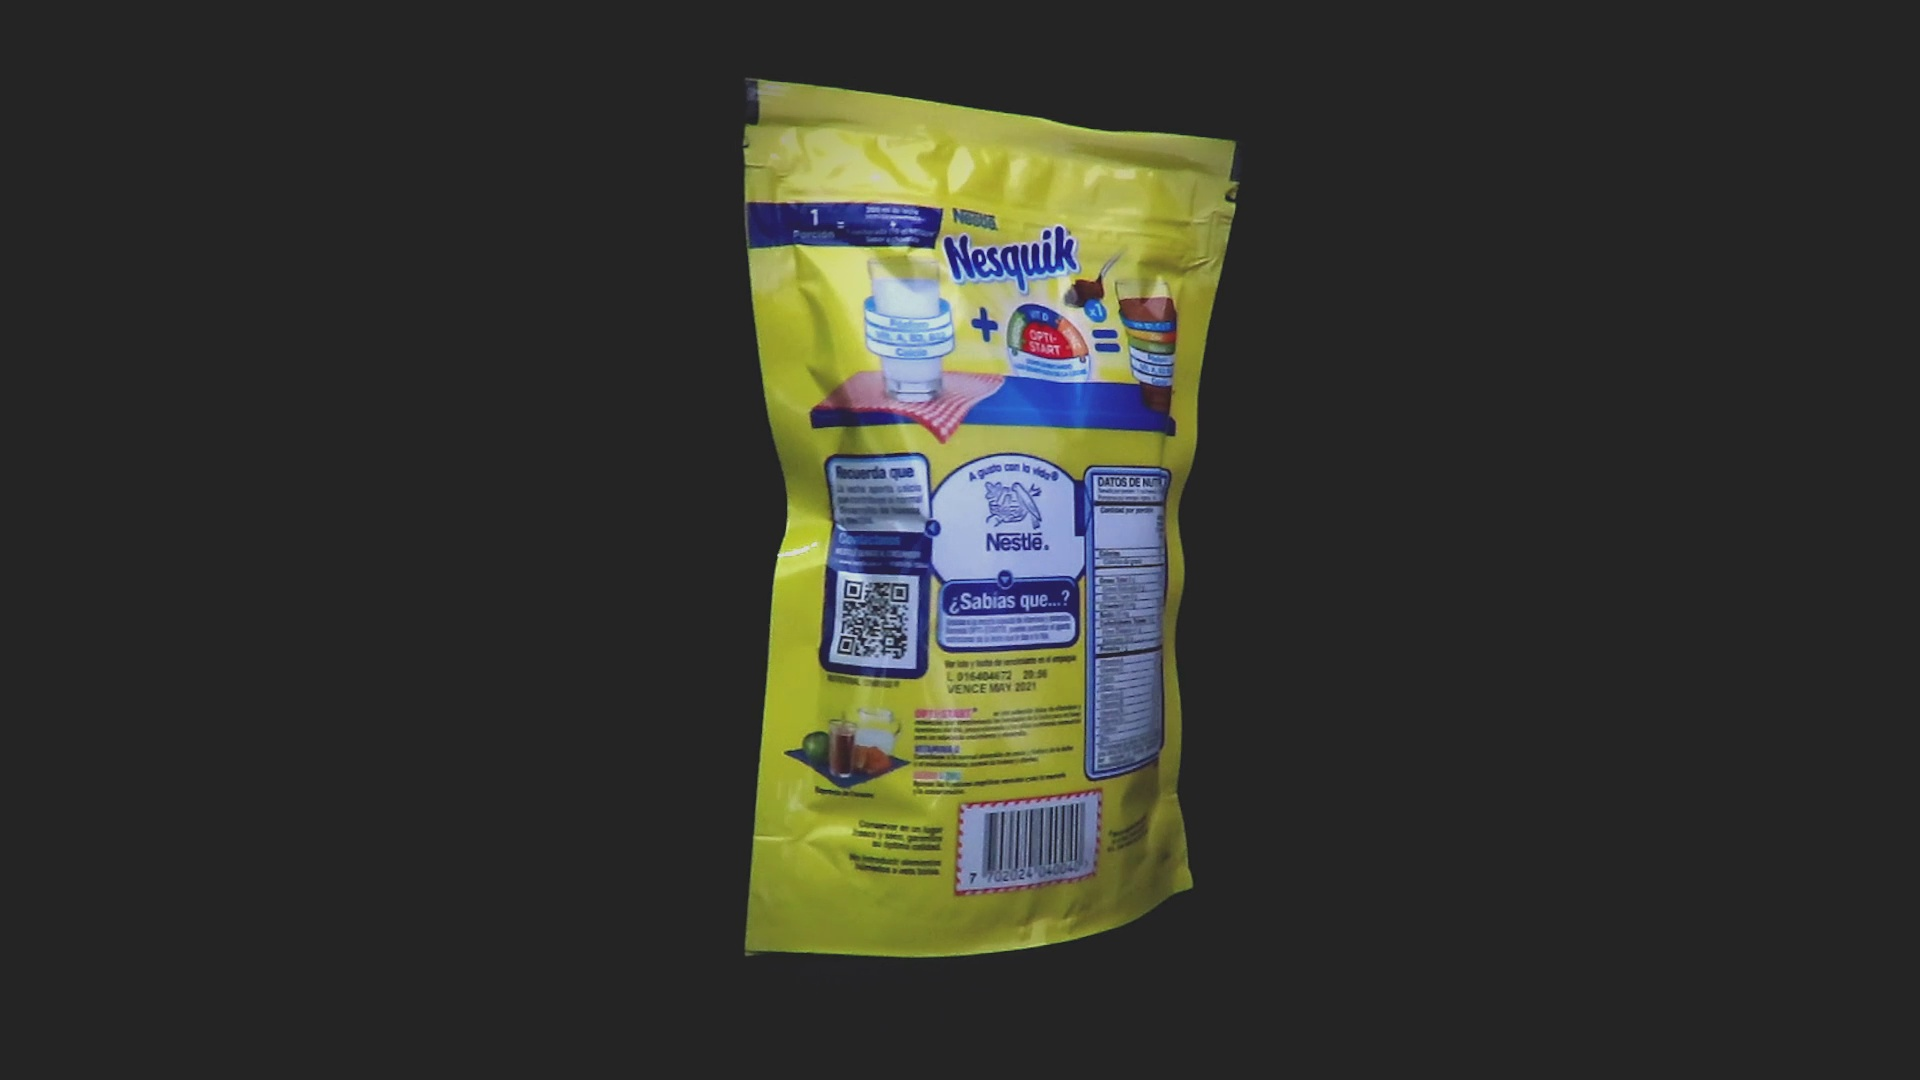COL0170303DYP20000: (738, 73, 1246, 964)
